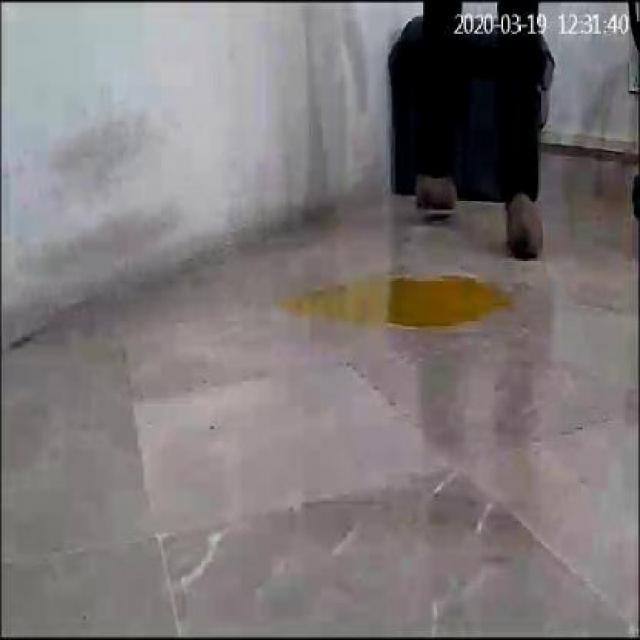spill: (274, 274, 520, 322)
